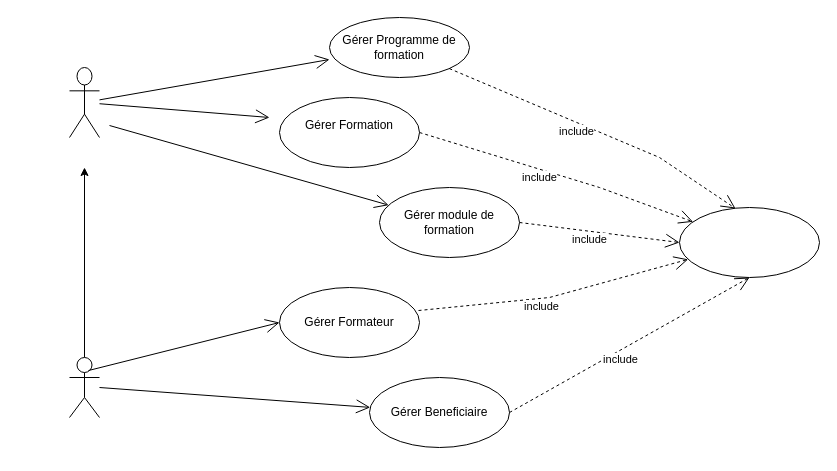
Image size: 837x471. Some labels were removed from this diagram. The shapes that lost their labels are listed below. From the top down, each one's box as (x1, y1, x2, y2) in pixels, then its label:
(68, 66, 100, 138): responsable de formation
(678, 206, 820, 278): Authentification
(68, 356, 100, 418): Administrateur
